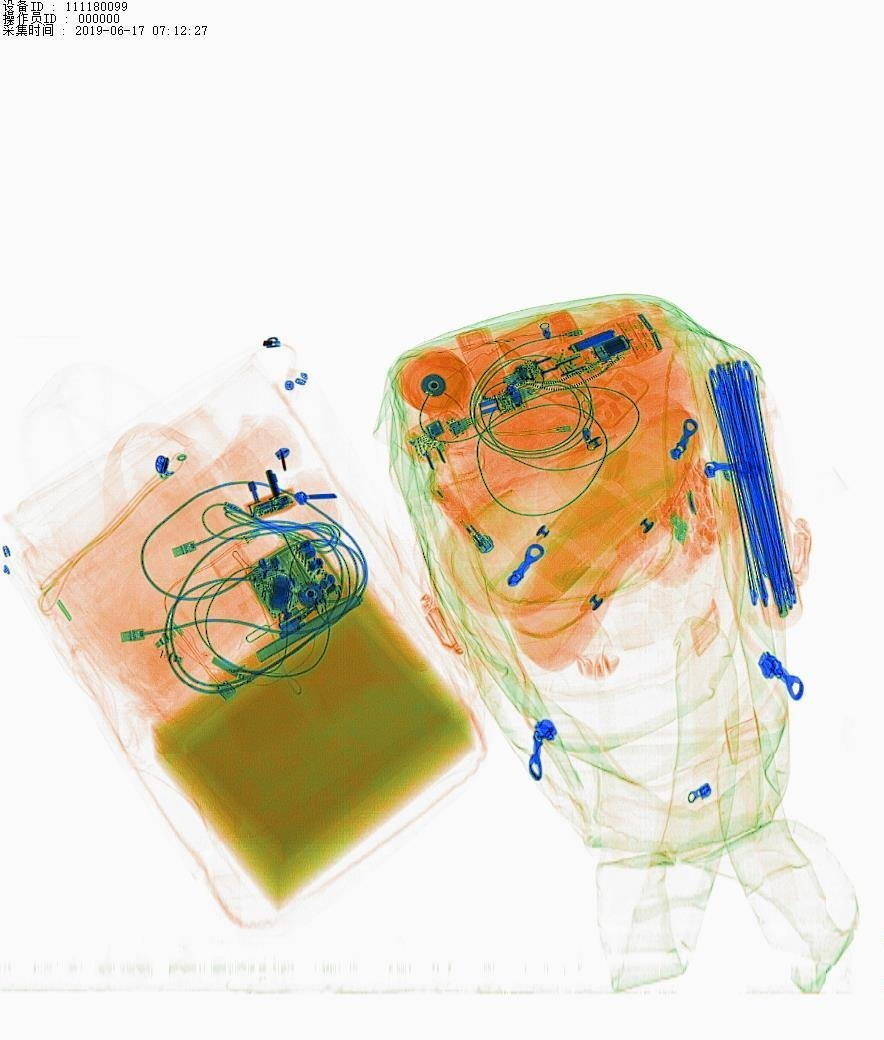NonmetallicFire: (426, 479, 501, 567)
